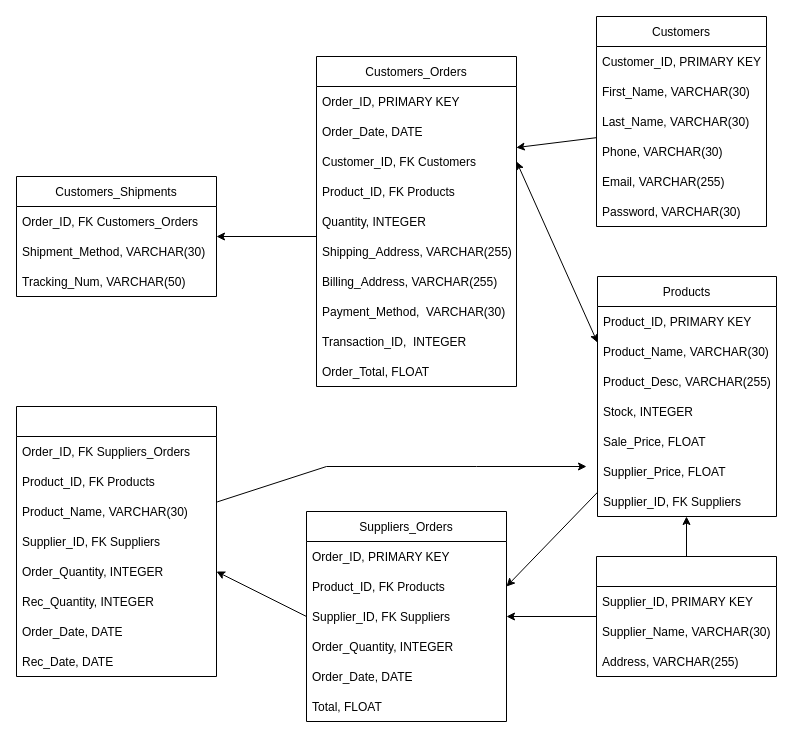
This 793x738 diagram has some shape labels left out. The shapes that lost their labels are listed below. From the top down, each one's box as (x1, y1, x2, y2) in pixels, then its label:
(16, 406, 216, 676): Suppliers_Shipments
(596, 556, 776, 676): Suppliers
